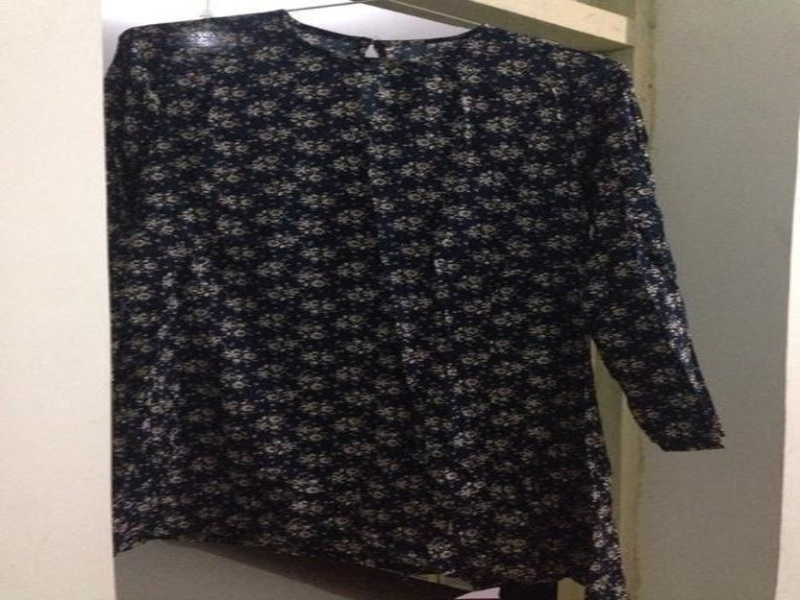long_sleeved_dress: (53, 9, 730, 599)
